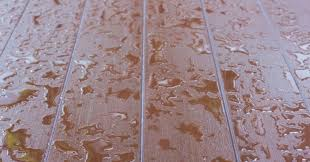Wet-floor: (1, 0, 310, 162)
